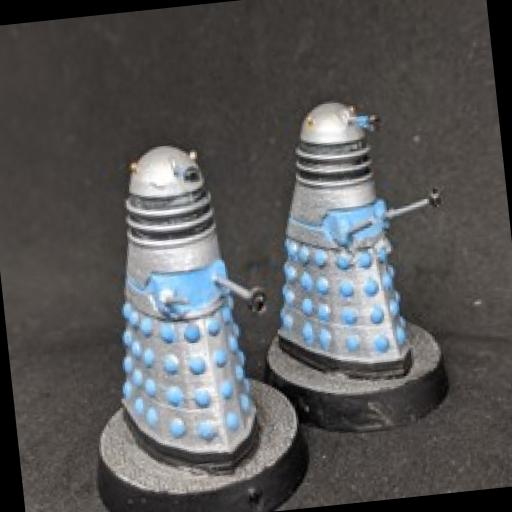dalek: (92, 138, 282, 489), (254, 86, 464, 392)
